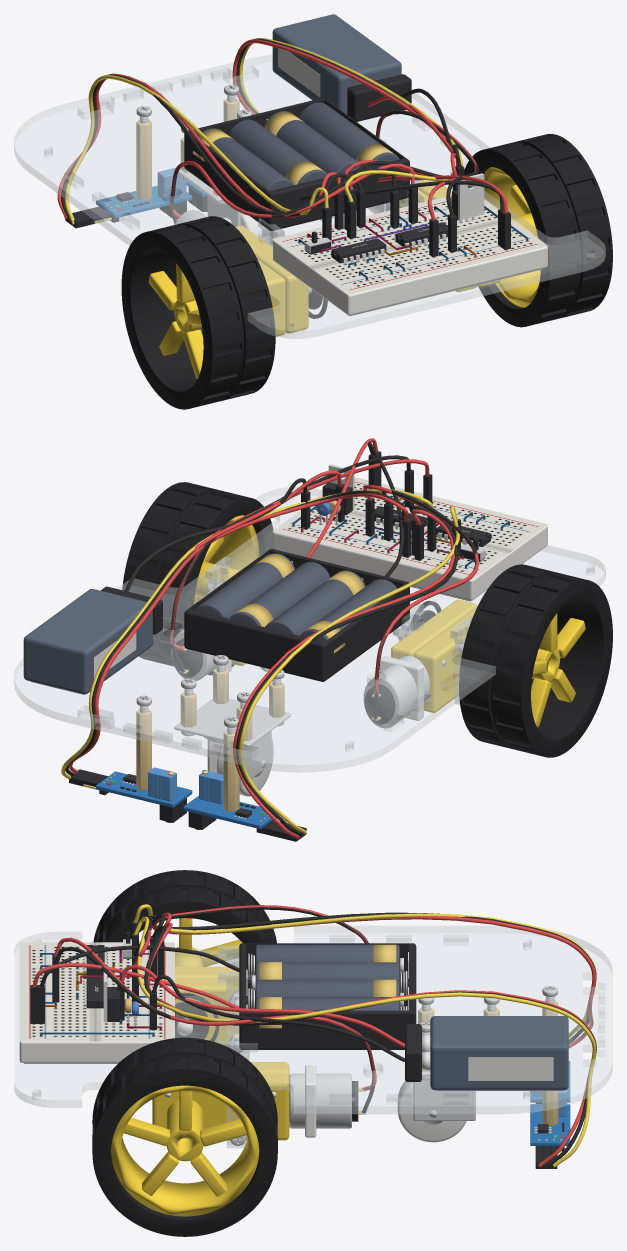
File: agv-seguidor.glb
3 renders of one model, top to bottom at view 1: azimuth 30°, elevation 25°; view 2: azimuth 150°, elevation 25°; view 3: azimuth 270°, elevation 25°, orthographic.
Visible parts, largest first — view 1: paso_1_Acrílico transparente, fijacion_3 Llanta izquierda, fijacion_3 Llanta derecha, paso_7_Protoboard serigrafía, paso_6_Plástico negro, paso_6_Pila AA, paso_6_Pila 9 V, paso_7_Protoboard, paso_8_Cable rojo, paso_8_Cable negro, paso_8_Plástico negro, paso_2_Plástico amarillo TT (+9 smaller); view 2: paso_1_Acrílico transparente, fijacion_3 Llanta izquierda, paso_6_Plástico negro, fijacion_3 Llanta derecha, paso_6_Pila 9 V, paso_6_Pila AA, paso_7_Protoboard serigrafía, paso_8_Cable rojo, paso_8_Cable negro, paso_5_PCB azul, paso_7_Protoboard, paso_2_Plástico amarillo TT (+15 smaller); view 3: paso_1_Acrílico transparente, fijacion_3 Llanta derecha, fijacion_3 Rin de 5 rayos derecha, paso_7_Protoboard serigrafía, paso_6_Pila 9 V, paso_6_Plástico negro, paso_6_Pila AA, fijacion_3 Llanta izquierda, paso_8_Cable rojo, paso_8_Cable negro, paso_2_Plástico amarillo TT, paso_8_Cable amarillo (+16 smaller).
Boxes of the visible parts, x1,y1,x2,y2 form: paso_1_Acrílico transparente: [14, 55, 605, 338]; fijacion_3 Llanta izquierda: [121, 216, 275, 409]; fijacion_3 Llanta derecha: [464, 134, 612, 327]; paso_7_Protoboard serigrafía: [272, 195, 548, 294]; paso_6_Plástico negro: [184, 74, 411, 230]; paso_6_Pila AA: [198, 102, 399, 190]; paso_6_Pila 9 V: [272, 14, 401, 114]; paso_7_Protoboard: [273, 240, 547, 315]; paso_8_Cable rojo: [57, 39, 507, 220]; paso_8_Cable negro: [61, 38, 503, 223]; paso_8_Plástico negro: [65, 166, 510, 256]; paso_2_Plástico amarillo TT: [235, 180, 500, 336]; paso_1_Acrílico transparente: [14, 487, 605, 772]; fijacion_3 Llanta izquierda: [459, 564, 612, 757]; paso_6_Plástico negro: [101, 548, 409, 681]; fijacion_3 Llanta derecha: [122, 482, 273, 675]; paso_6_Pila 9 V: [23, 589, 152, 694]; paso_6_Pila AA: [195, 553, 397, 641]; paso_7_Protoboard serigrafía: [272, 477, 548, 580]; paso_8_Cable rojo: [69, 438, 479, 839]; paso_8_Cable negro: [65, 441, 477, 836]; paso_5_PCB azul: [83, 767, 275, 833]; paso_7_Protoboard: [273, 525, 547, 600]; paso_2_Plástico amarillo TT: [200, 553, 477, 712]; paso_1_Acrílico transparente: [14, 926, 612, 1113]; fijacion_3 Llanta derecha: [92, 1037, 277, 1236]; fijacion_3 Rin de 5 rayos derecha: [111, 1085, 259, 1216]; paso_7_Protoboard serigrafía: [19, 942, 174, 1041]; paso_6_Pila 9 V: [430, 1016, 568, 1090]; paso_6_Plástico negro: [239, 943, 421, 1081]; paso_6_Pila AA: [255, 944, 399, 1010]; fijacion_3 Llanta izquierda: [93, 870, 276, 1052]; paso_8_Cable rojo: [32, 905, 596, 1167]; paso_8_Cable negro: [39, 907, 596, 1167]; paso_2_Plástico amarillo TT: [152, 966, 289, 1140]; paso_8_Cable amarillo: [133, 904, 596, 1167].
Size of the model in its own units: 0.165 by 0.0795 by 0.21.
Materials: 43 (1 with a texture image).
